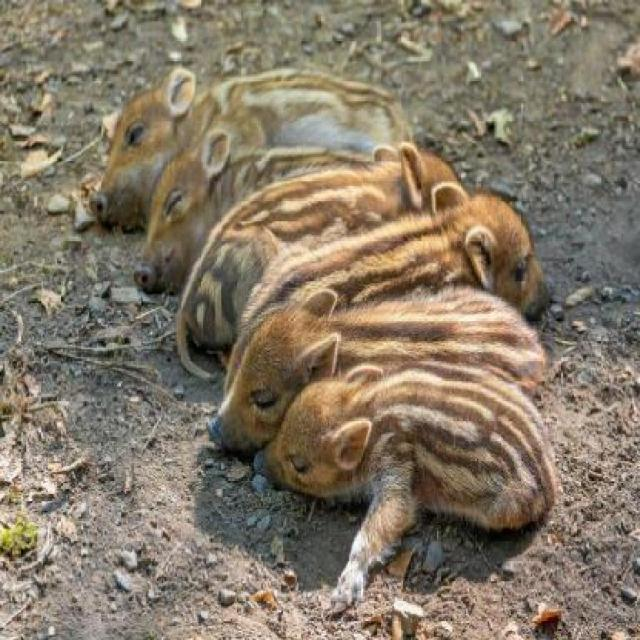Wild Boar: (249, 361, 556, 617), (172, 141, 478, 384), (217, 181, 555, 394), (206, 288, 552, 480), (132, 115, 473, 298), (88, 62, 421, 235)
